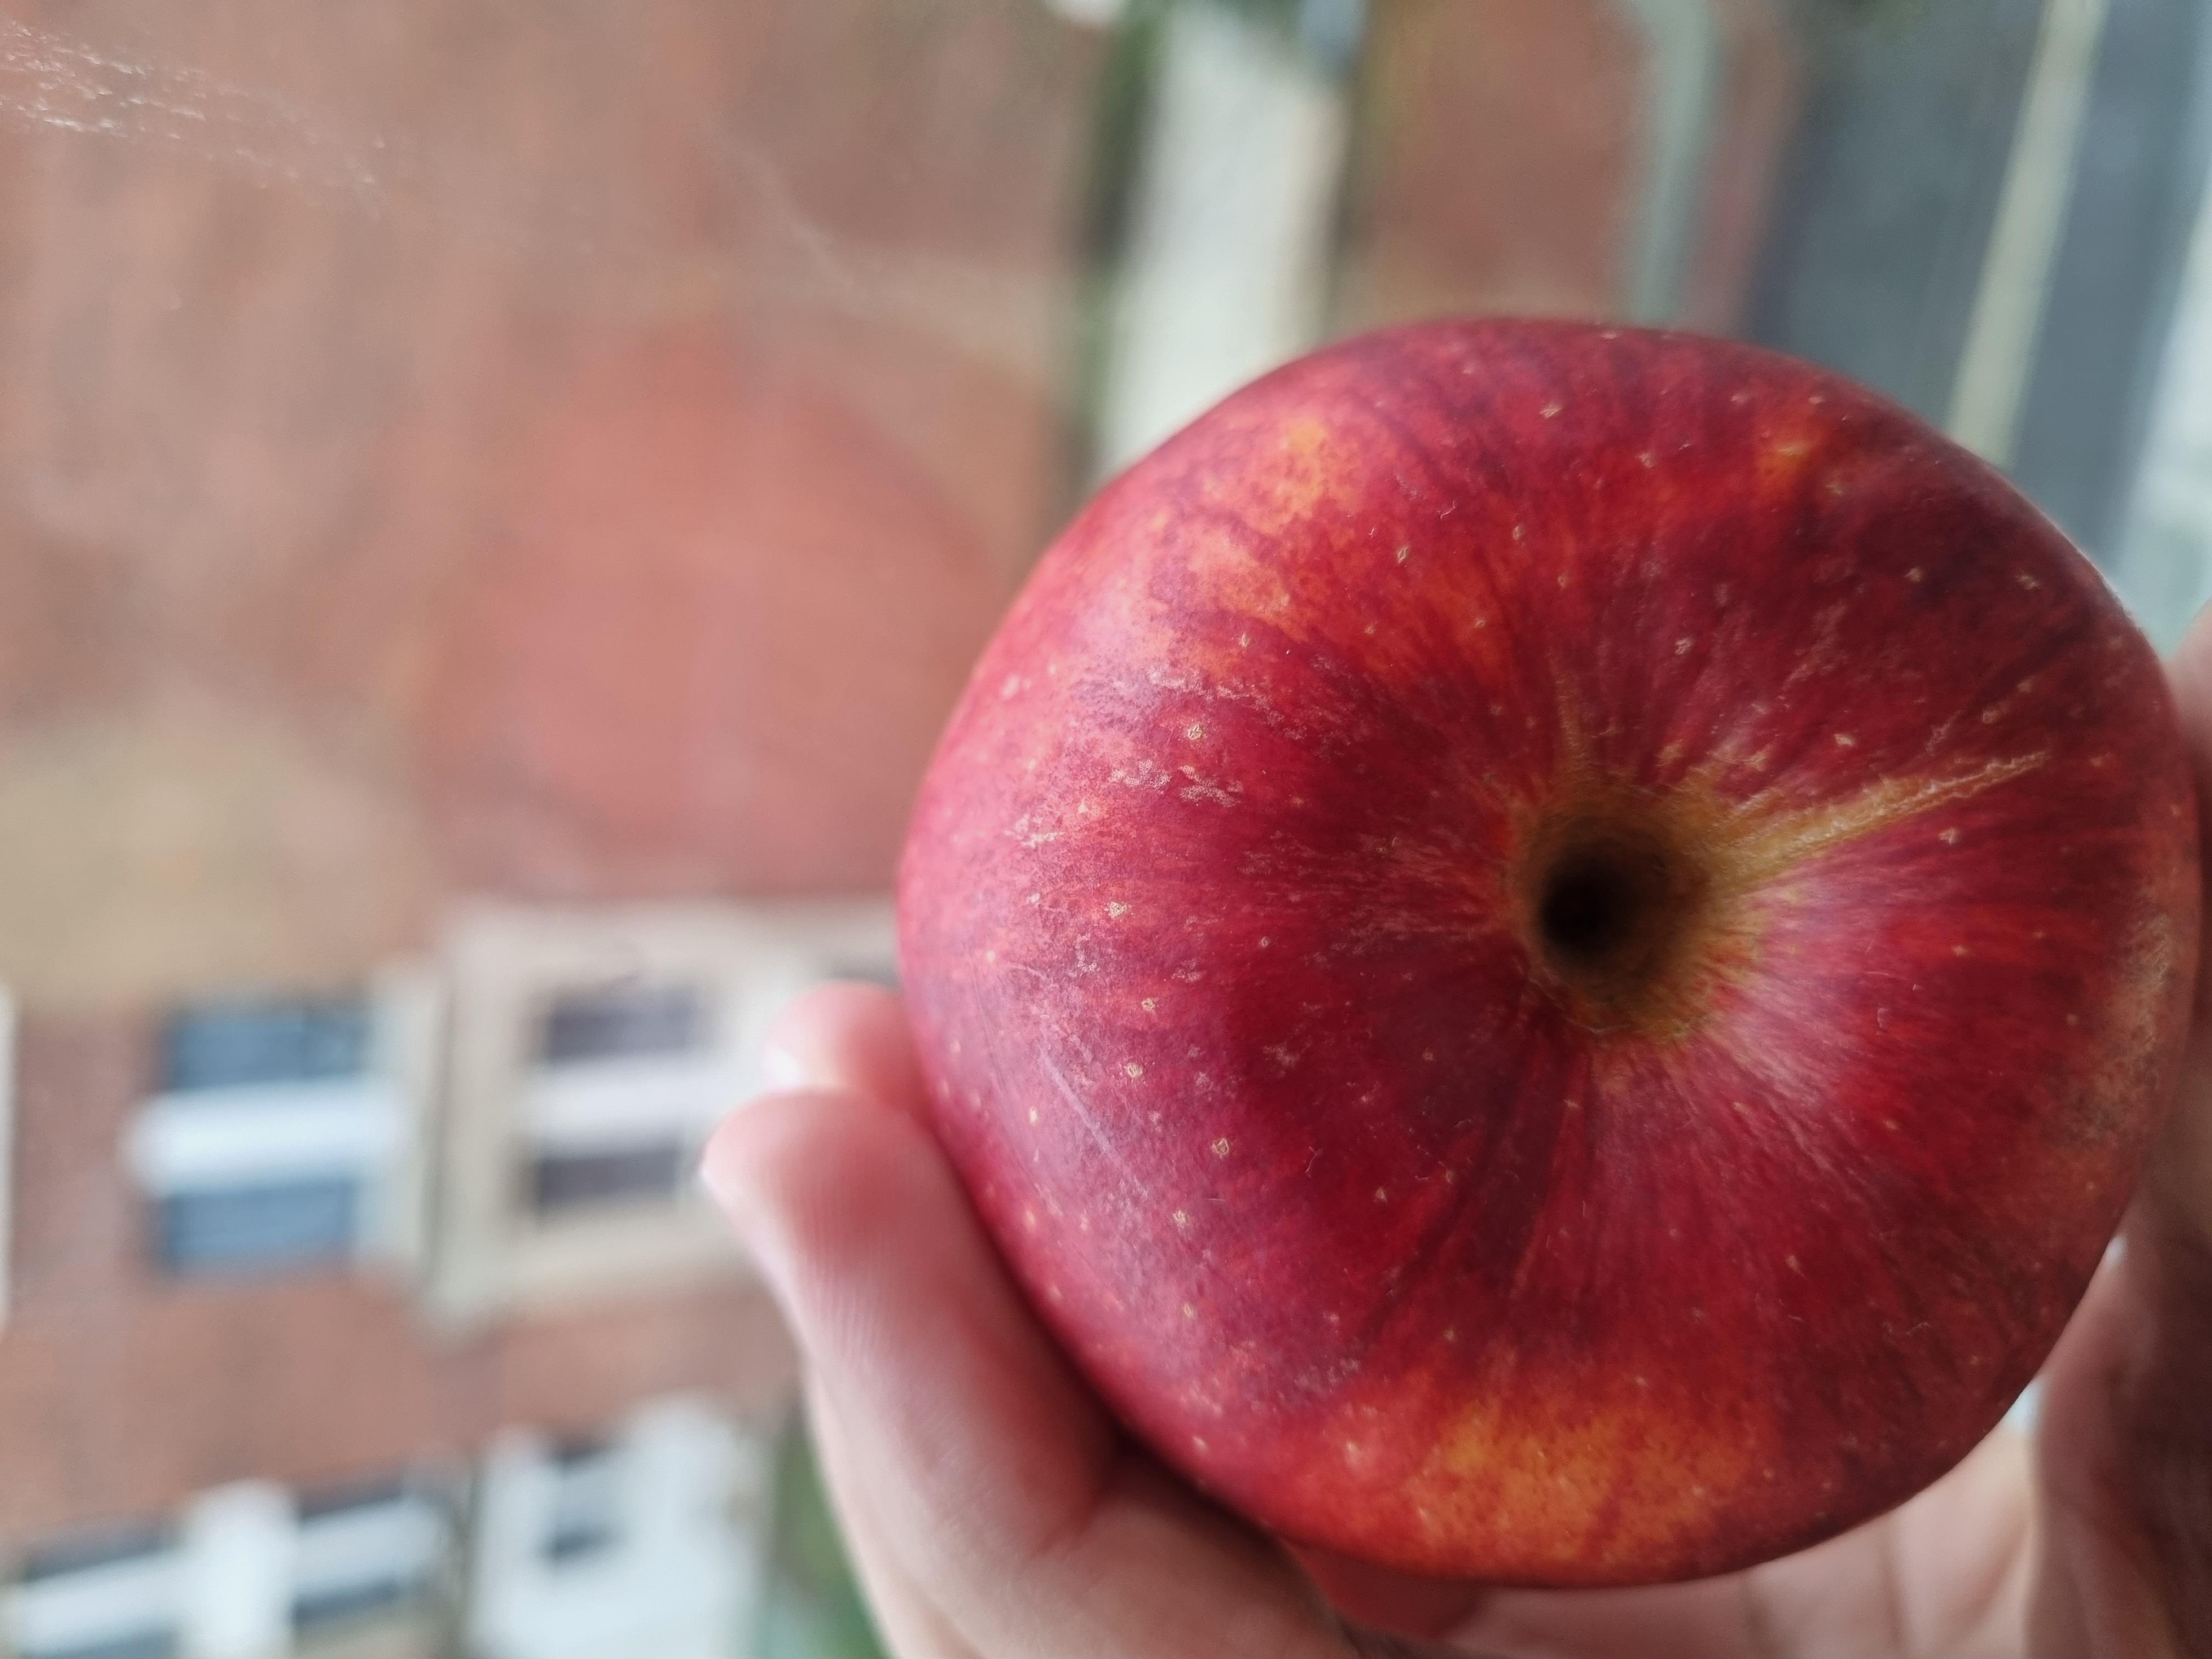Apple: (108, 655, 1803, 1659)
